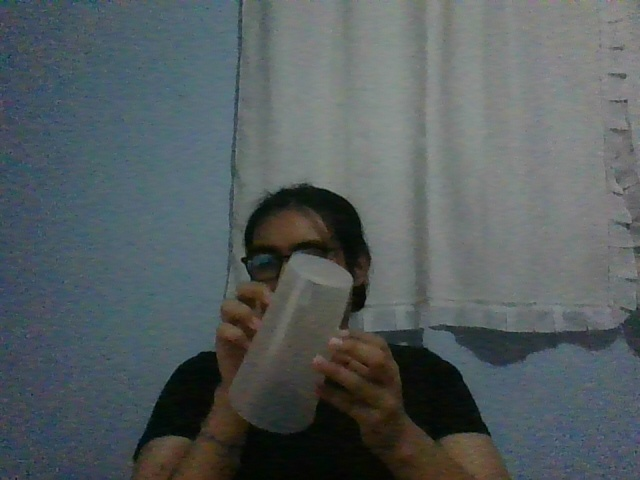vaso: (226, 251, 353, 434)
